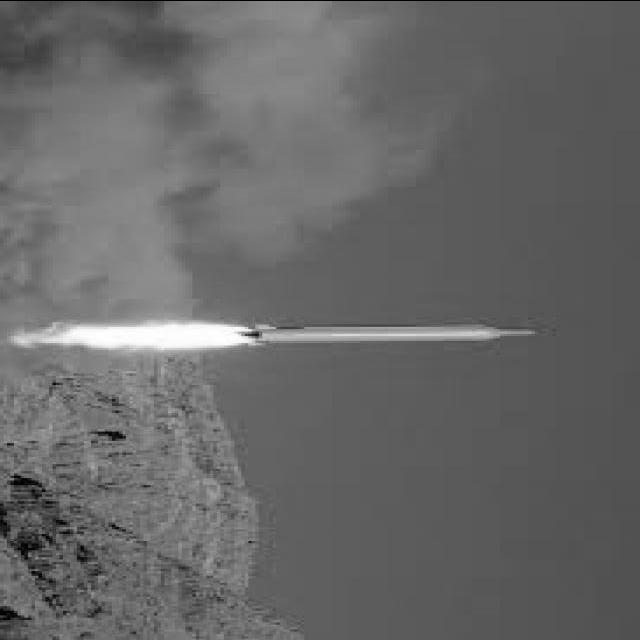missile: (229, 315, 561, 353)
